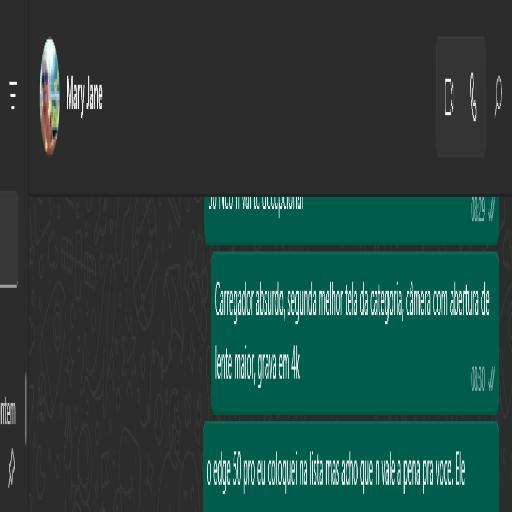mensagem-enviada: (208, 251, 500, 412)
